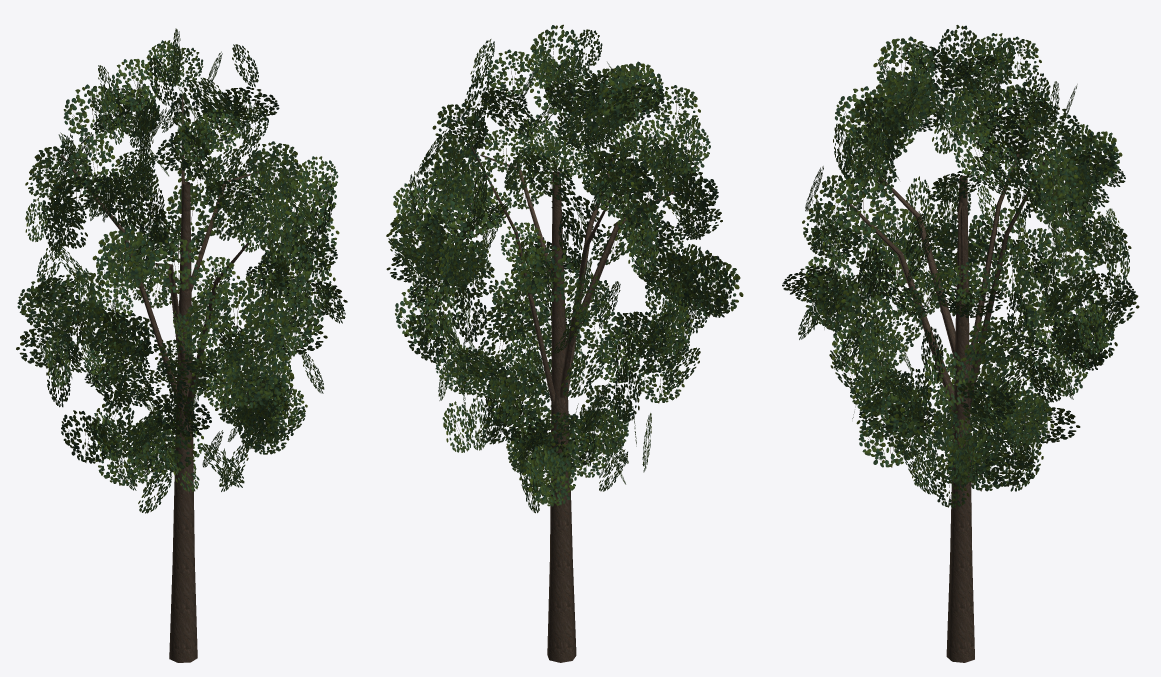
File: tpl_rec_bank_dike_alder_hi.glb
The picture shows the model from 3 angles, left to right: view 1: azimuth 30°, elevation 25°; view 2: azimuth 150°, elevation 25°; view 3: azimuth 270°, elevation 25°; orthographic projection. The views are drawn at different scales.
Parts seen in each view (by area): view 1: tpl_rec_bank_dike_alder_hi; view 2: tpl_rec_bank_dike_alder_hi; view 3: tpl_rec_bank_dike_alder_hi.
Part boxes in pixels (<box>): tpl_rec_bank_dike_alder_hi: <box>16,28,347,662</box>; tpl_rec_bank_dike_alder_hi: <box>386,24,743,662</box>; tpl_rec_bank_dike_alder_hi: <box>782,25,1139,662</box>.
Size of the model in its own units: 8.31 by 15.85 by 8.37.
2 materials, 2 textured.
